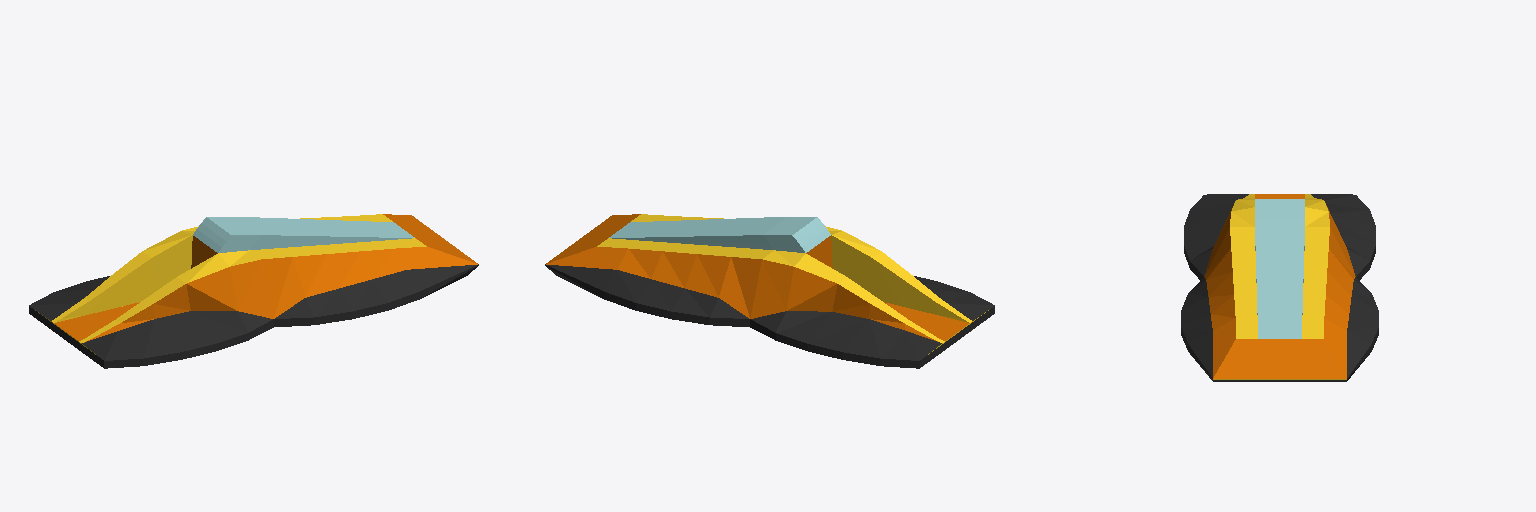
Rendered from machine2.obj.
3 renders of one model, left to right at view 1: azimuth 30°, elevation 25°; view 2: azimuth 150°, elevation 25°; view 3: azimuth 270°, elevation 25°, orthographic.
Visible parts, largest first — view 1: Box001; view 2: Box001; view 3: Box001.
Part boxes in pixels (x1,y1,x2,y2): Box001: (29,214,478,368); Box001: (545,214,994,368); Box001: (1181,194,1378,381).
Size of the model in its own units: 69.53 by 13.59 by 31.43.